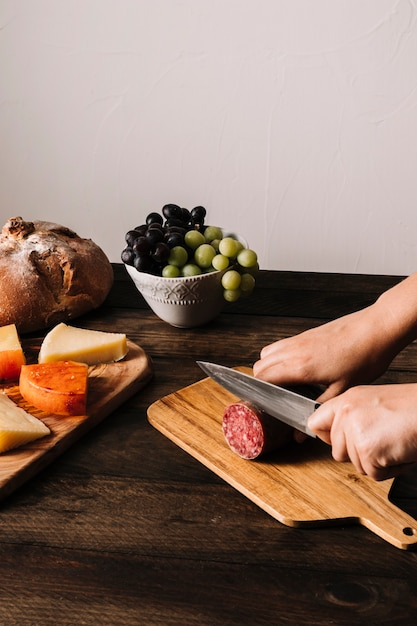knife: (192, 357, 318, 436)
